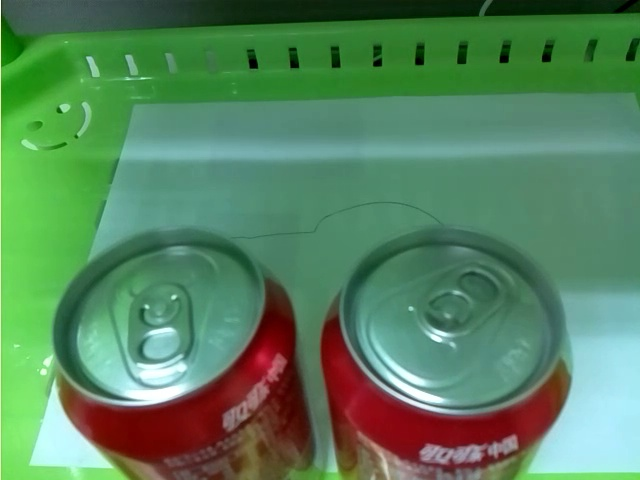cocacola: (46, 216, 315, 480), (321, 224, 575, 478)
